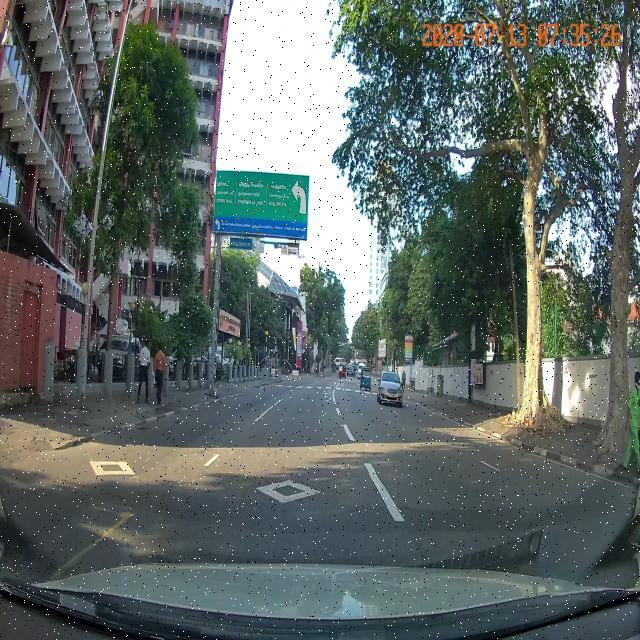diamond: (163, 474, 400, 518)
